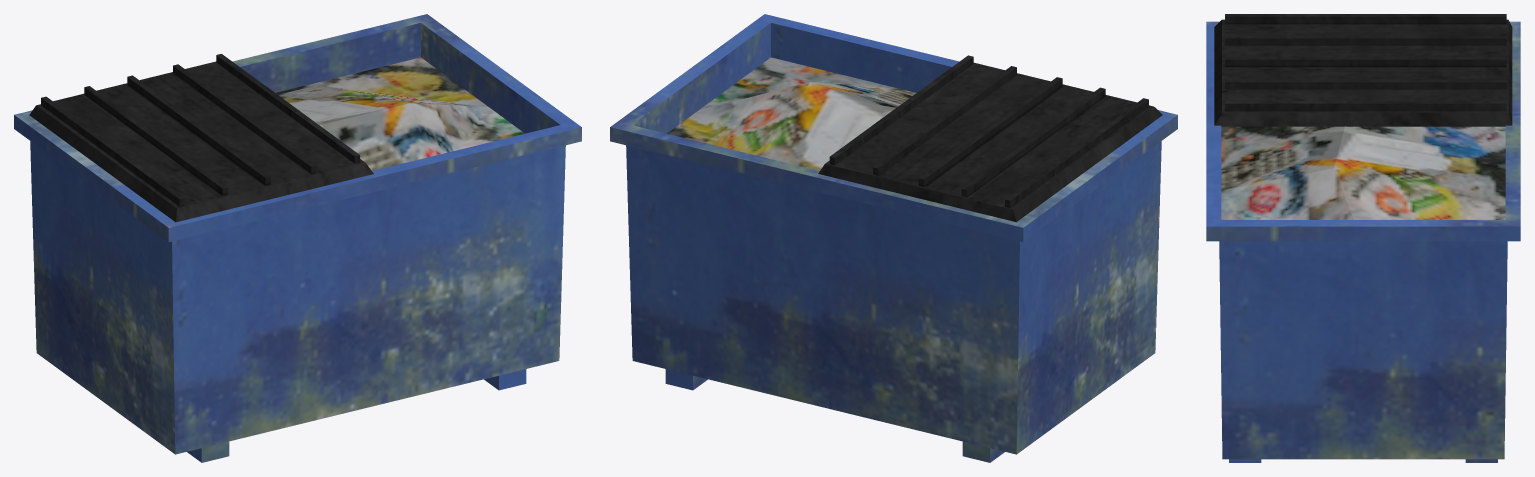
File: gas_dumpster.fbx
The picture shows the model from 3 angles, left to right: view 1: azimuth 30°, elevation 25°; view 2: azimuth 150°, elevation 25°; view 3: azimuth 270°, elevation 25°; orthographic projection.
Visible parts, largest first — view 1: gas_dumpster; view 2: gas_dumpster; view 3: gas_dumpster.
Part boxes in pixels (left/top/right/bottom): gas_dumpster: left=14, top=14, right=581, bottom=462; gas_dumpster: left=610, top=14, right=1177, bottom=462; gas_dumpster: left=1206, top=14, right=1520, bottom=462.
Bounding box in the file's own units: 1.96 × 1.23 × 1.27.
1 material, 1 textured.
